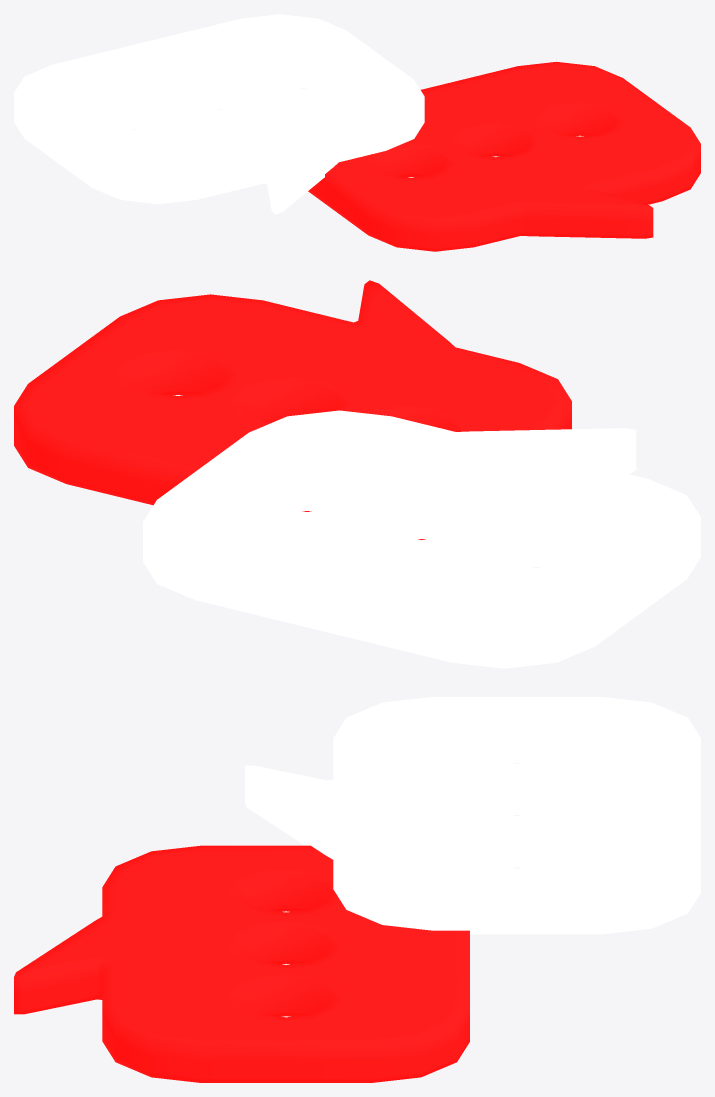
File: contact.glb
3 views of the same model, one above another, from view 1: azimuth 30°, elevation 25°; view 2: azimuth 150°, elevation 25°; view 3: azimuth 270°, elevation 25° (orthographic). The views are drawn at different scales.
Parts seen in each view (by area): view 1: message.002, message; view 2: message.002, message; view 3: message.002, message.
Part boxes in pixels (bbox=[...]): message.002: bbox=[14, 14, 424, 214]; message: bbox=[308, 61, 700, 251]; message.002: bbox=[143, 410, 700, 668]; message: bbox=[14, 280, 571, 539]; message.002: bbox=[245, 697, 700, 934]; message: bbox=[14, 845, 469, 1082].
Size of the model in its own units: 1.6 by 0.168 by 1.48.
